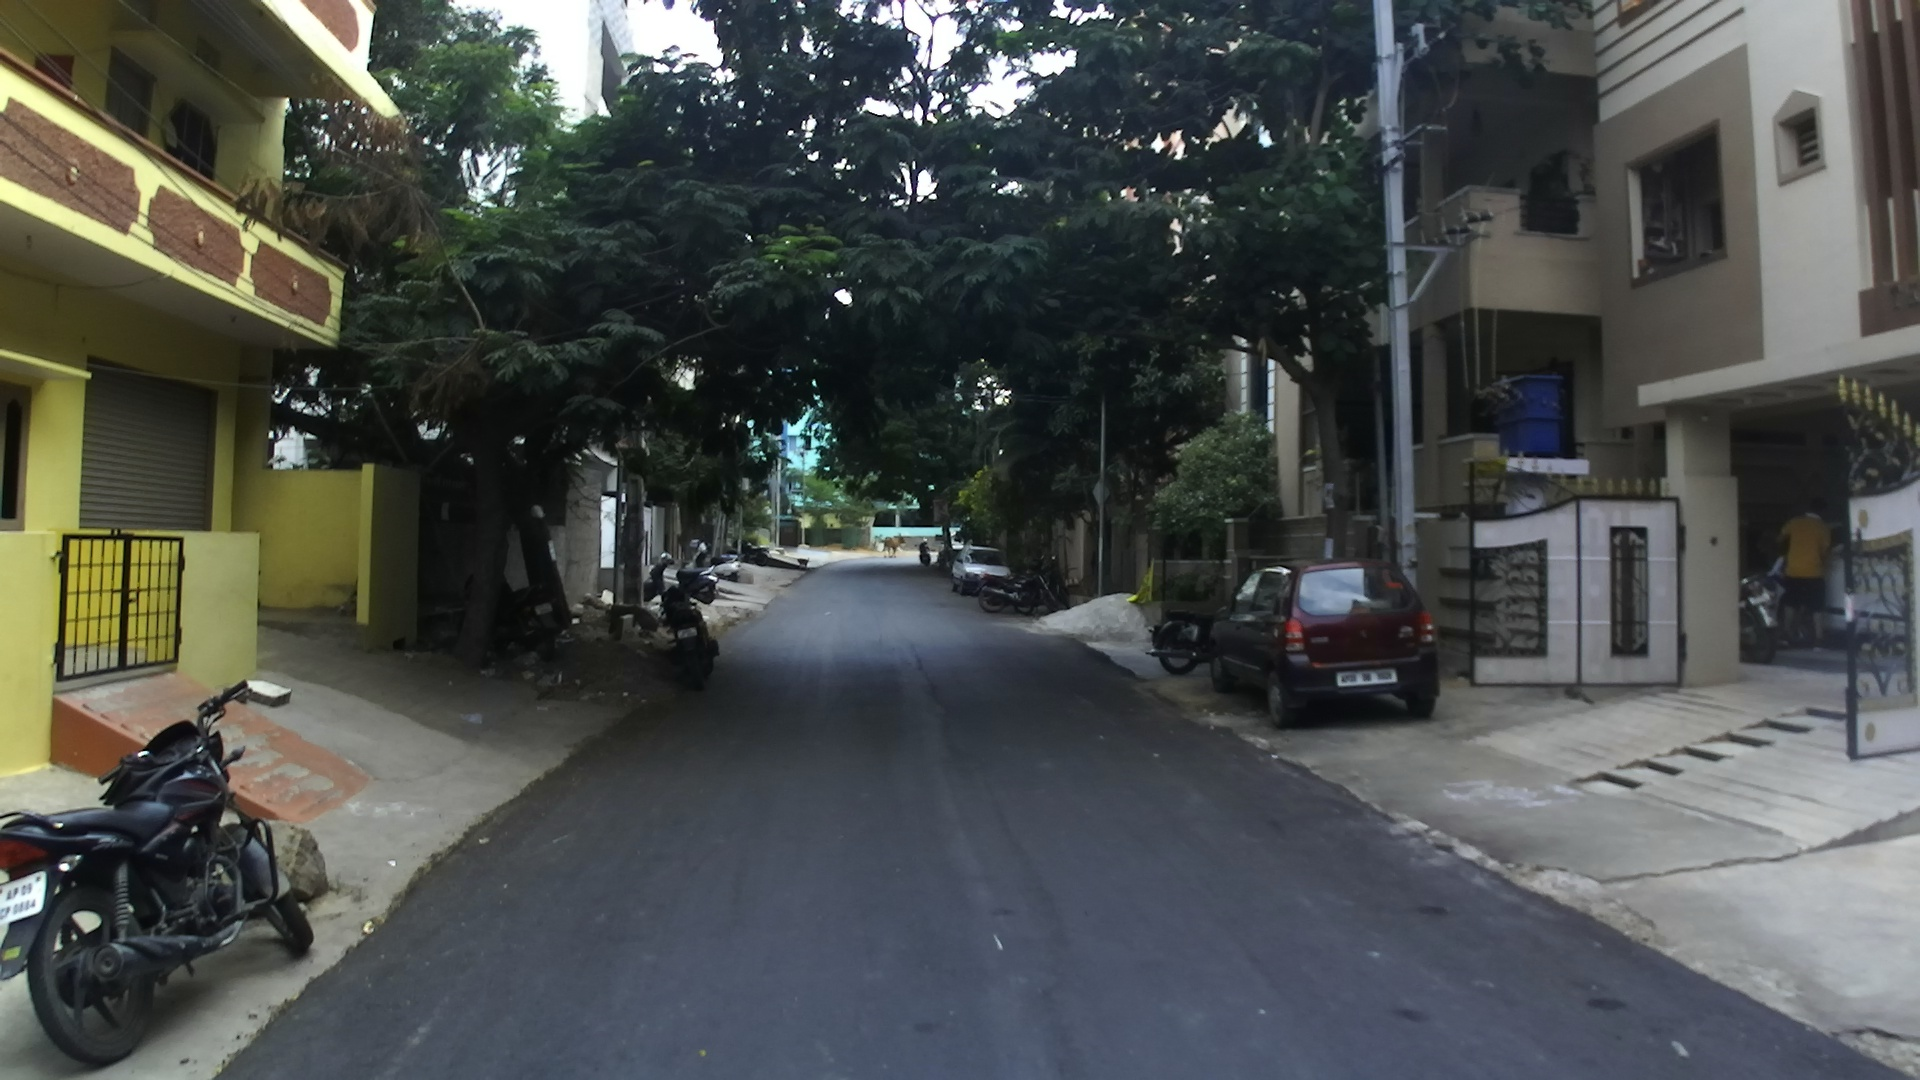vehicle: (0, 674, 324, 1065), (1204, 560, 1443, 727), (658, 595, 717, 691), (1149, 601, 1220, 675), (948, 549, 1014, 600)
